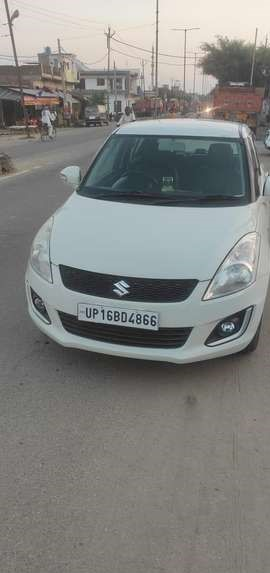UP16BD4866: (77, 301, 159, 332)
